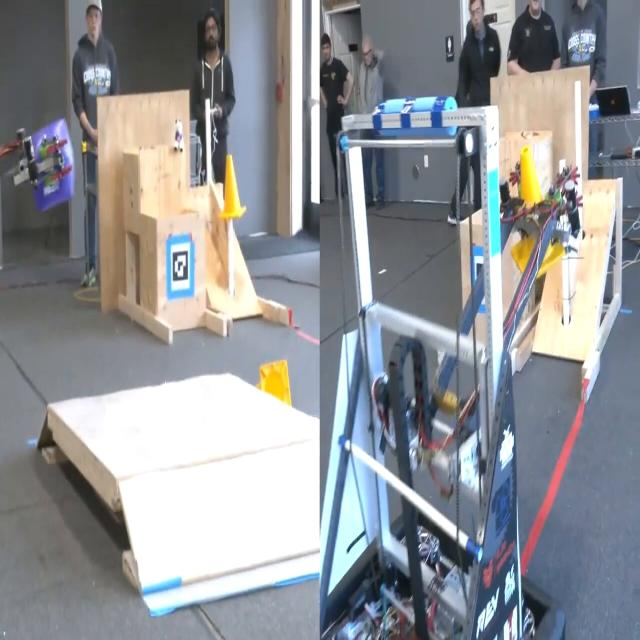frc_cone: (503, 153, 566, 271), (215, 154, 245, 224), (255, 362, 292, 411)
frc_cube: (26, 120, 74, 211)
